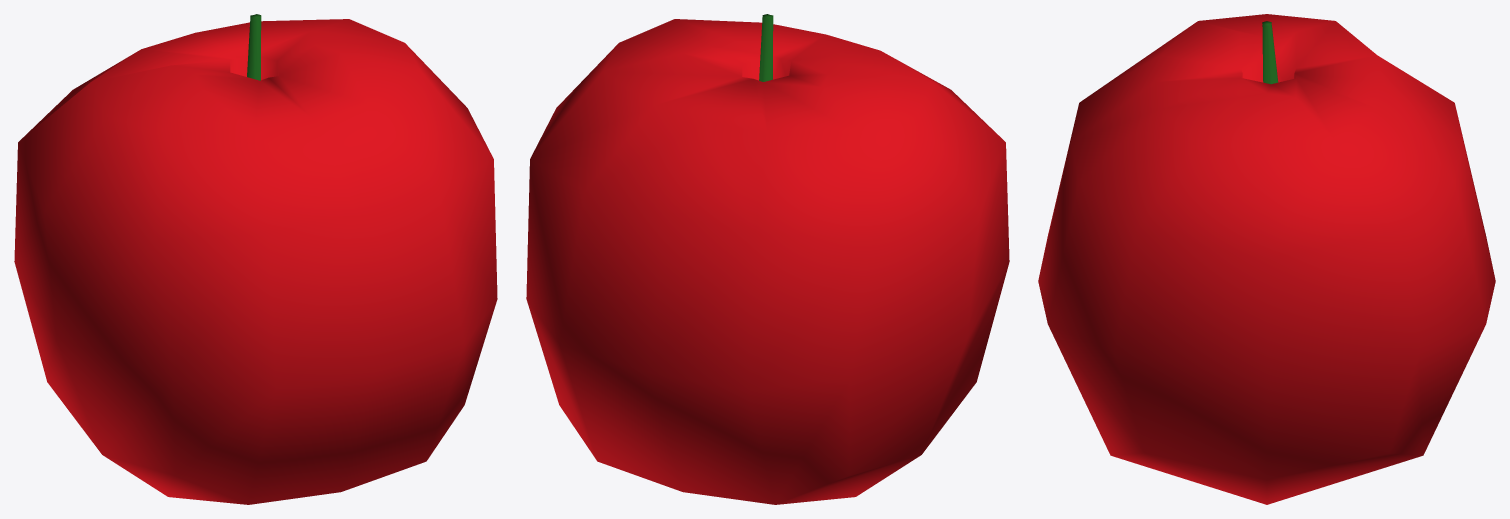
File: Maça.fbx
3 renders of one model, left to right at view 1: azimuth 30°, elevation 25°; view 2: azimuth 150°, elevation 25°; view 3: azimuth 270°, elevation 25°, orthographic. The views are drawn at different scales.
Visible parts, largest first — view 1: Maça; view 2: Maça; view 3: Maça.
Part boxes in pixels (box(x1,y1,x2,y2)): Maça: box(14, 14, 497, 504); Maça: box(526, 14, 1009, 504); Maça: box(1038, 14, 1495, 504).
Bounding box in the file's own units: 191 × 198 × 187.
